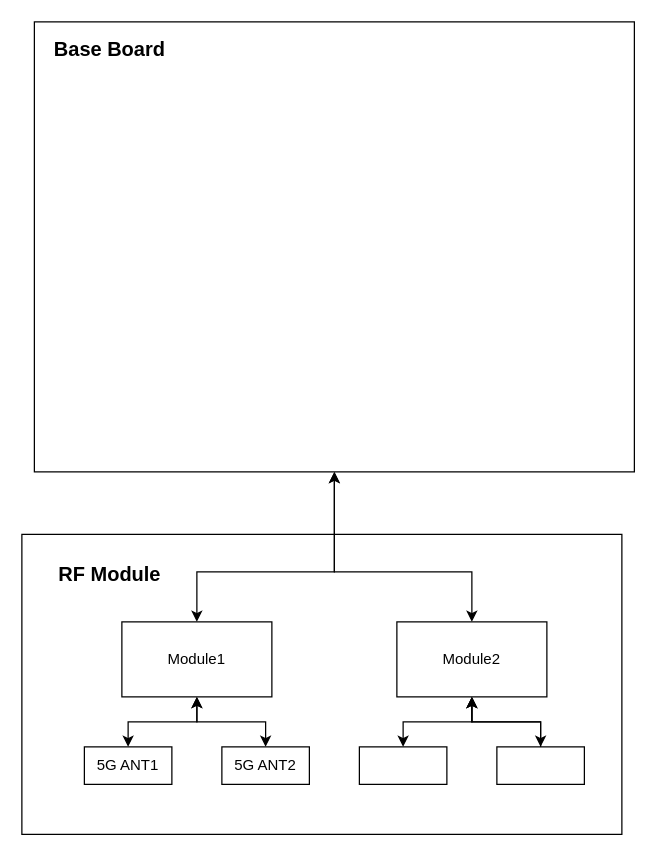
Some shapes in this 656 by 856 pixel diagram are drawn without their labels. The shapes that lost their labels are listed below. From the top down, each one's centre as x and y in pixels, then its label:
At [402,765]: "5G ANT3".
At [540,765]: "5G ANT4".
